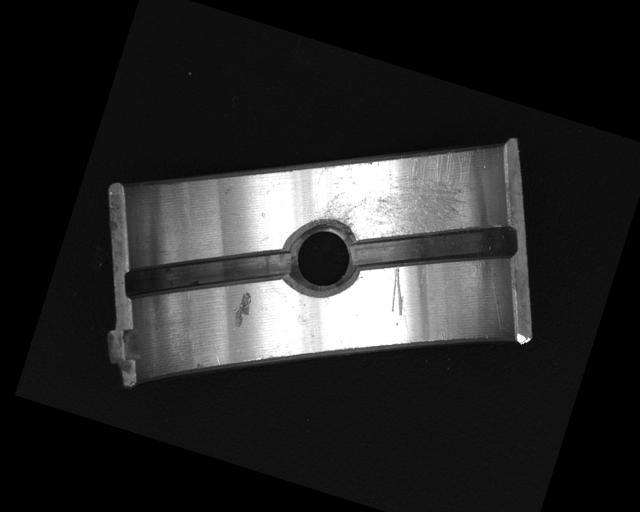bruise: (227, 288, 256, 330)
gap: (119, 206, 300, 342), (350, 185, 522, 309)
hole: (276, 213, 367, 302)
nick: (382, 264, 416, 317)
scratch: (308, 107, 484, 265)
